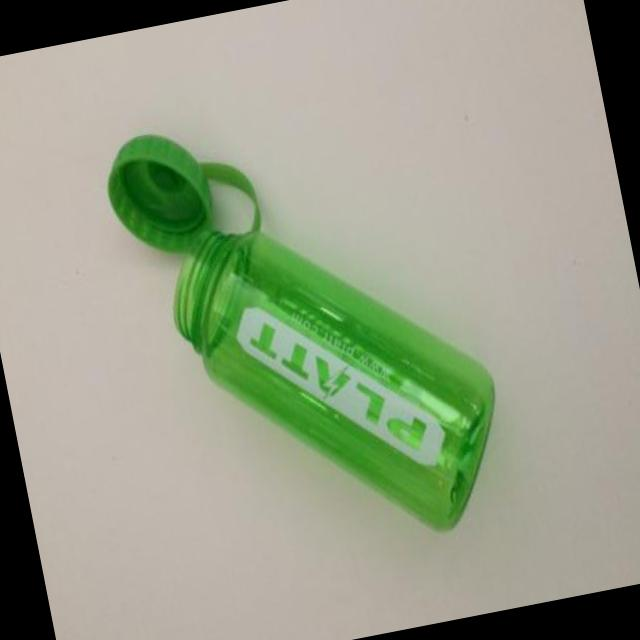Recycle: (102, 80, 518, 582)
